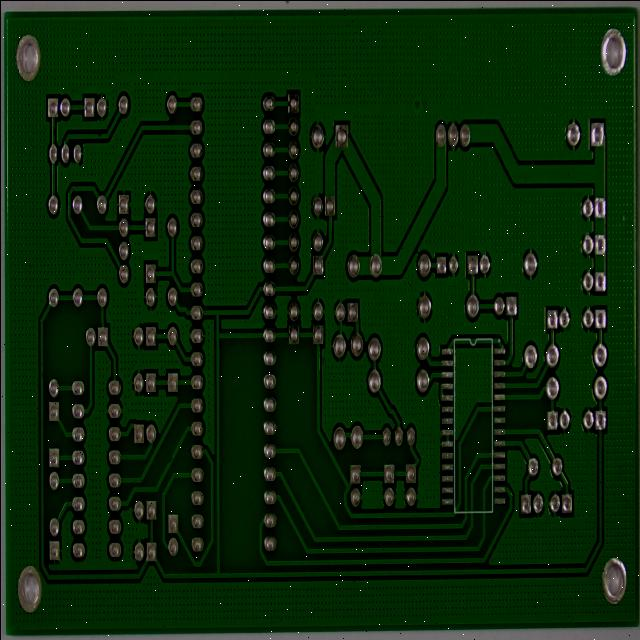mouse_bite: (133, 577, 142, 602), (58, 165, 66, 183), (10, 159, 16, 178)
